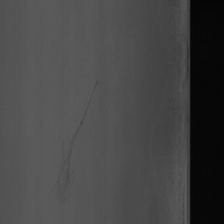water_spot: (57, 79, 111, 197)
